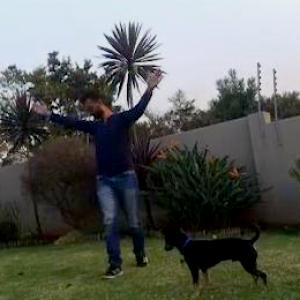takeoff: (12, 61, 162, 259)
